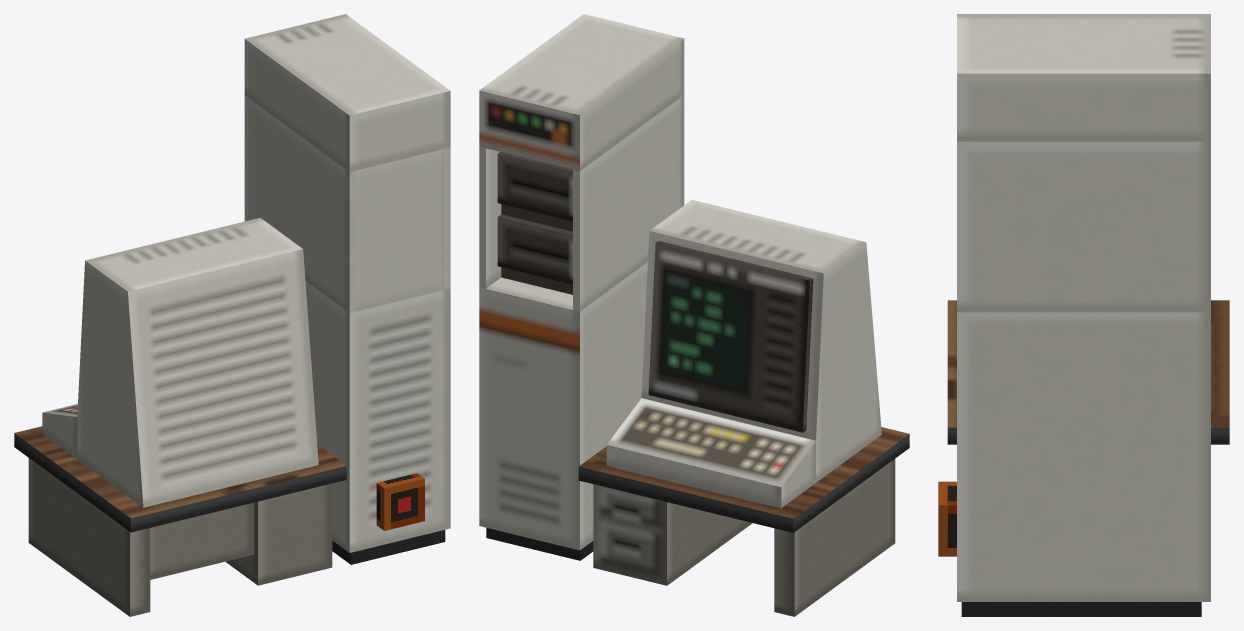
Rendered from era5_floppy_workstation_double_sided.obj.
3 renders of one model, left to right at view 1: azimuth 30°, elevation 25°; view 2: azimuth 150°, elevation 25°; view 3: azimuth 270°, elevation 25°, orthographic. The views are drawn at different scales.
Parts seen in each view (by area): view 1: era5_floppy_workstation; view 2: era5_floppy_workstation; view 3: era5_floppy_workstation.
Boxes of the visible parts, x1=… form: era5_floppy_workstation: x1=14, y1=14, x2=450, y2=616; era5_floppy_workstation: x1=479, y1=14, x2=909, y2=616; era5_floppy_workstation: x1=938, y1=14, x2=1229, y2=616.
Size of the model in its own units: 3 by 4 by 1.94.
